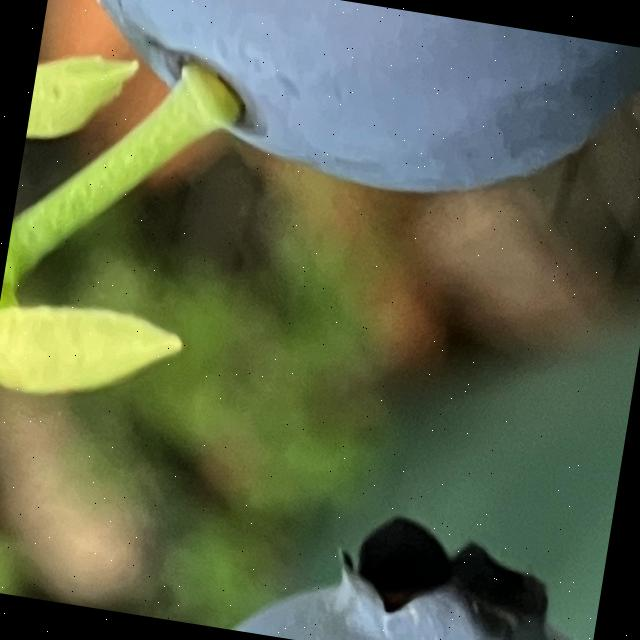Blueberries: (24, 0, 640, 240)
